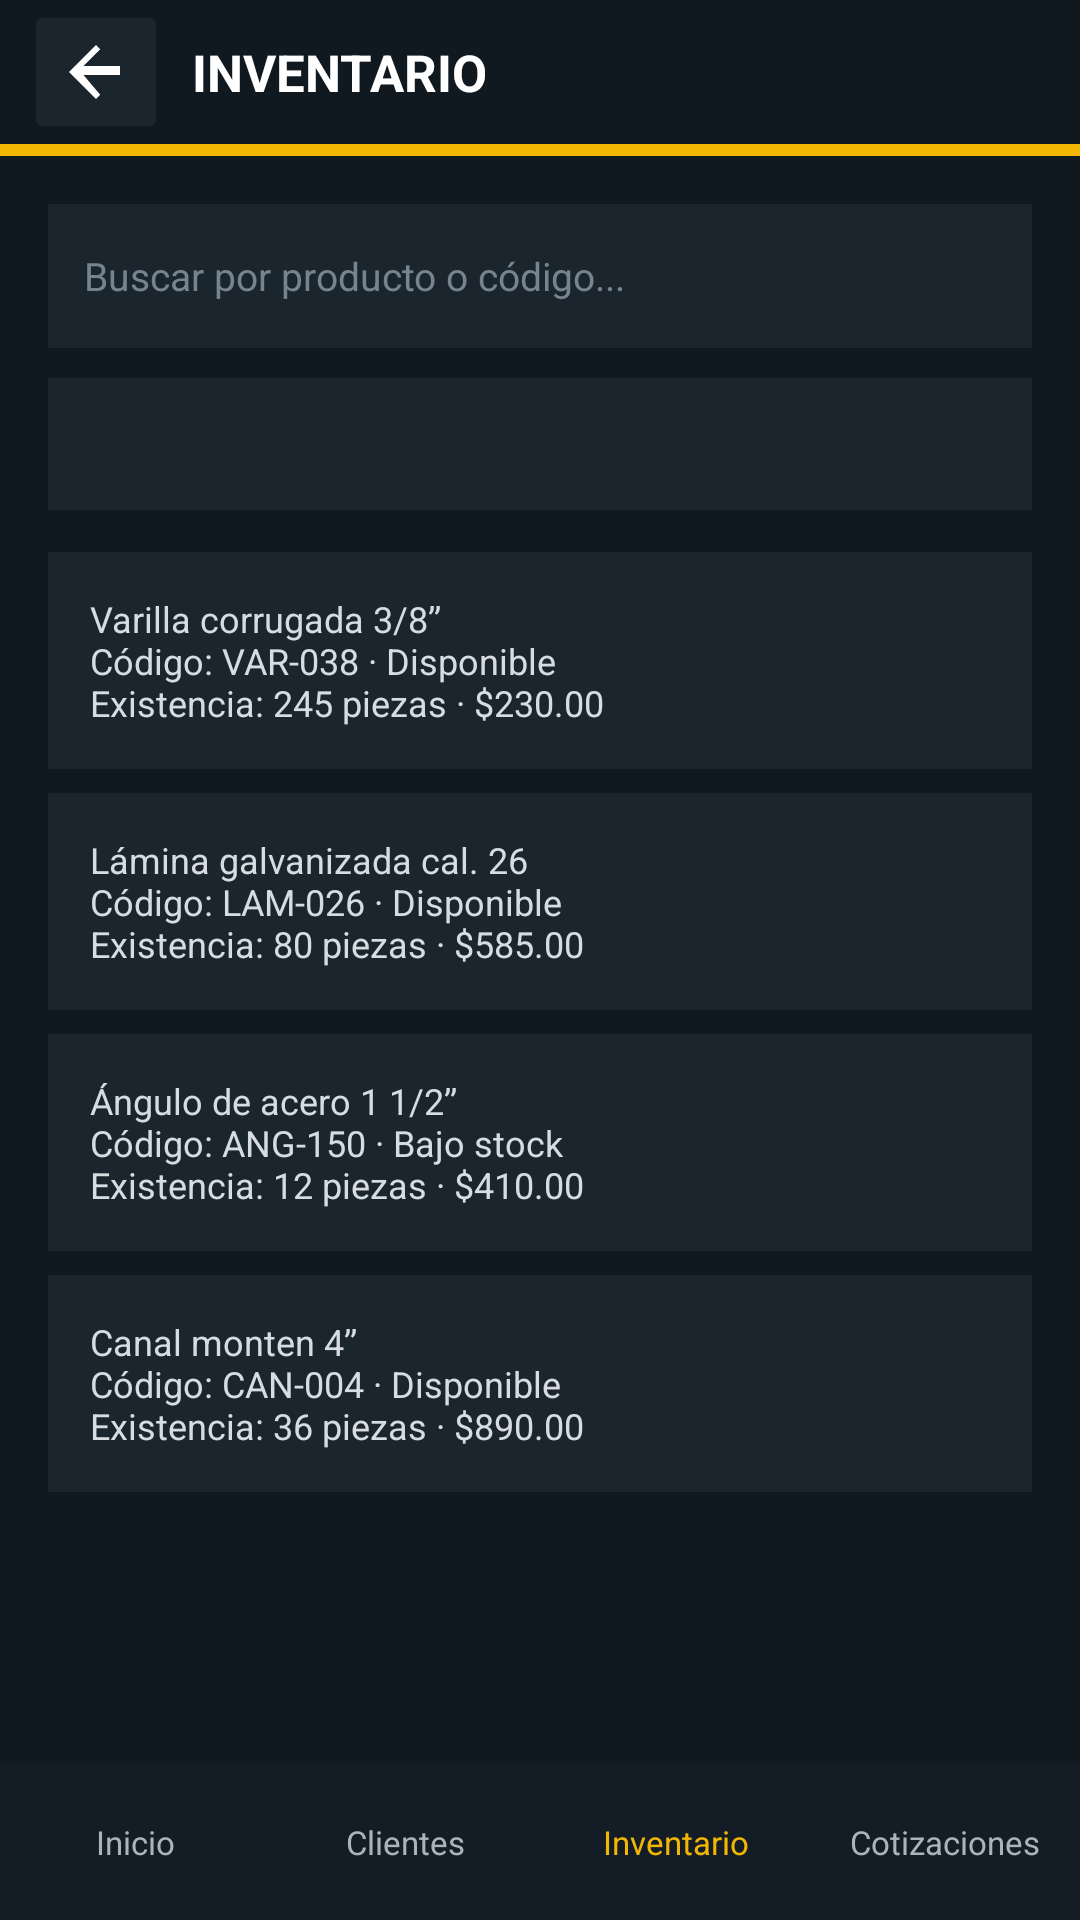

Icons on this 1080x1920 Android screen, each with its box as (x1, y1, x2, y2):
Volver: (36, 18, 156, 126)
